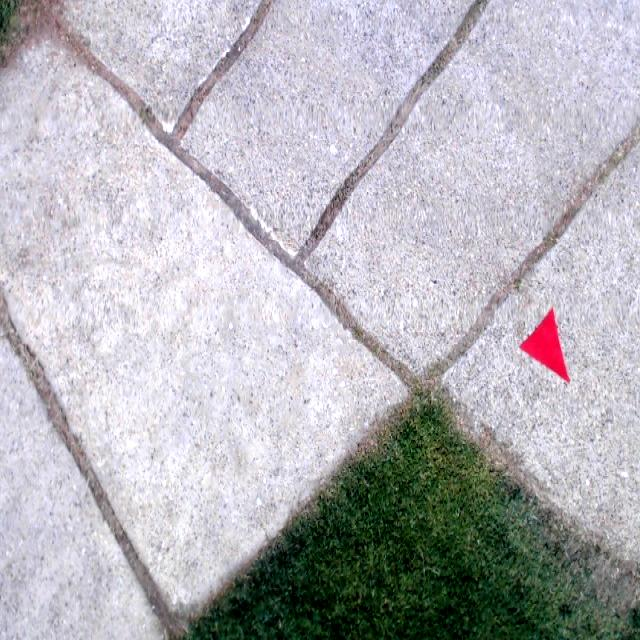red_triangle: (519, 306, 570, 384)
